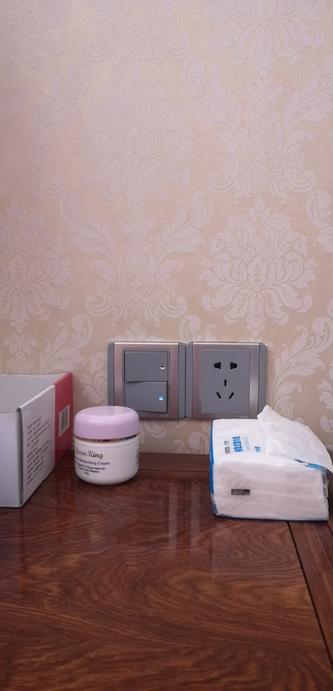switch: (133, 387, 179, 417), (128, 355, 171, 378)
